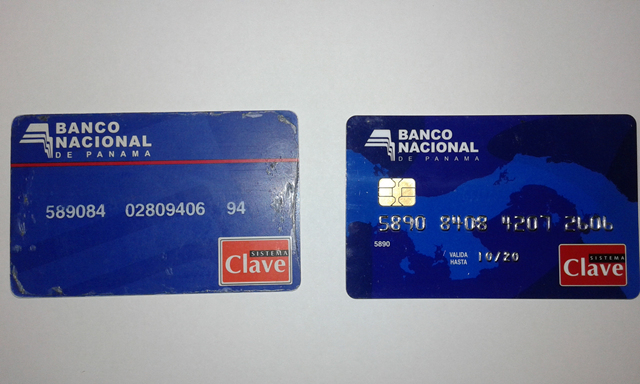tarjeta: (345, 113, 640, 300), (11, 109, 301, 298)
